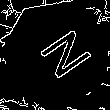N_SW: (24, 24, 90, 85)
